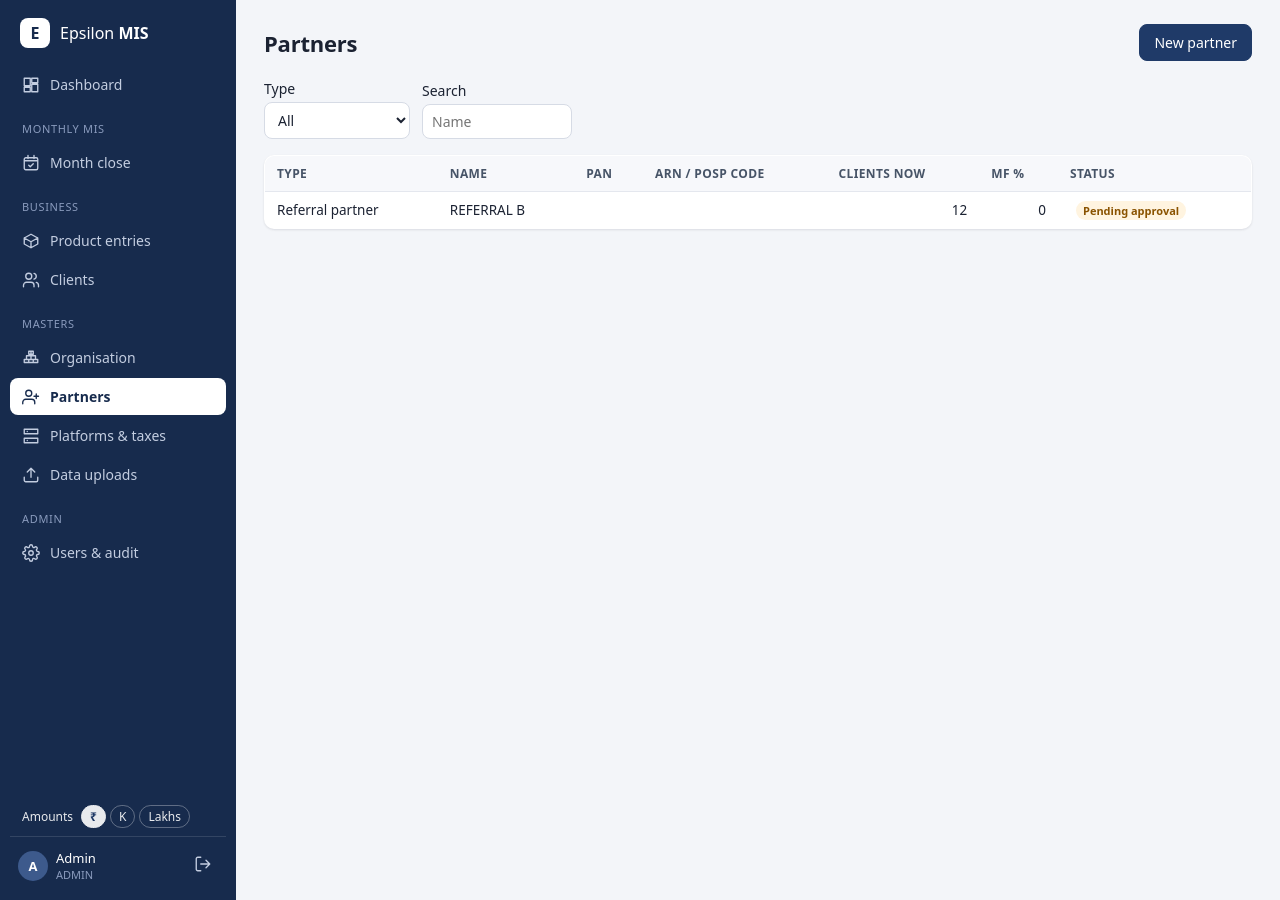
Test: partner rate cards › shows each partner its MF % and, opened, its % for every product
Check: the text "REFERRAL B" shows "Pending approval", box [1083,203,1179,218]
Click the text "REFERRAL B".
click(758, 210)  # box [264,192,1252,228]
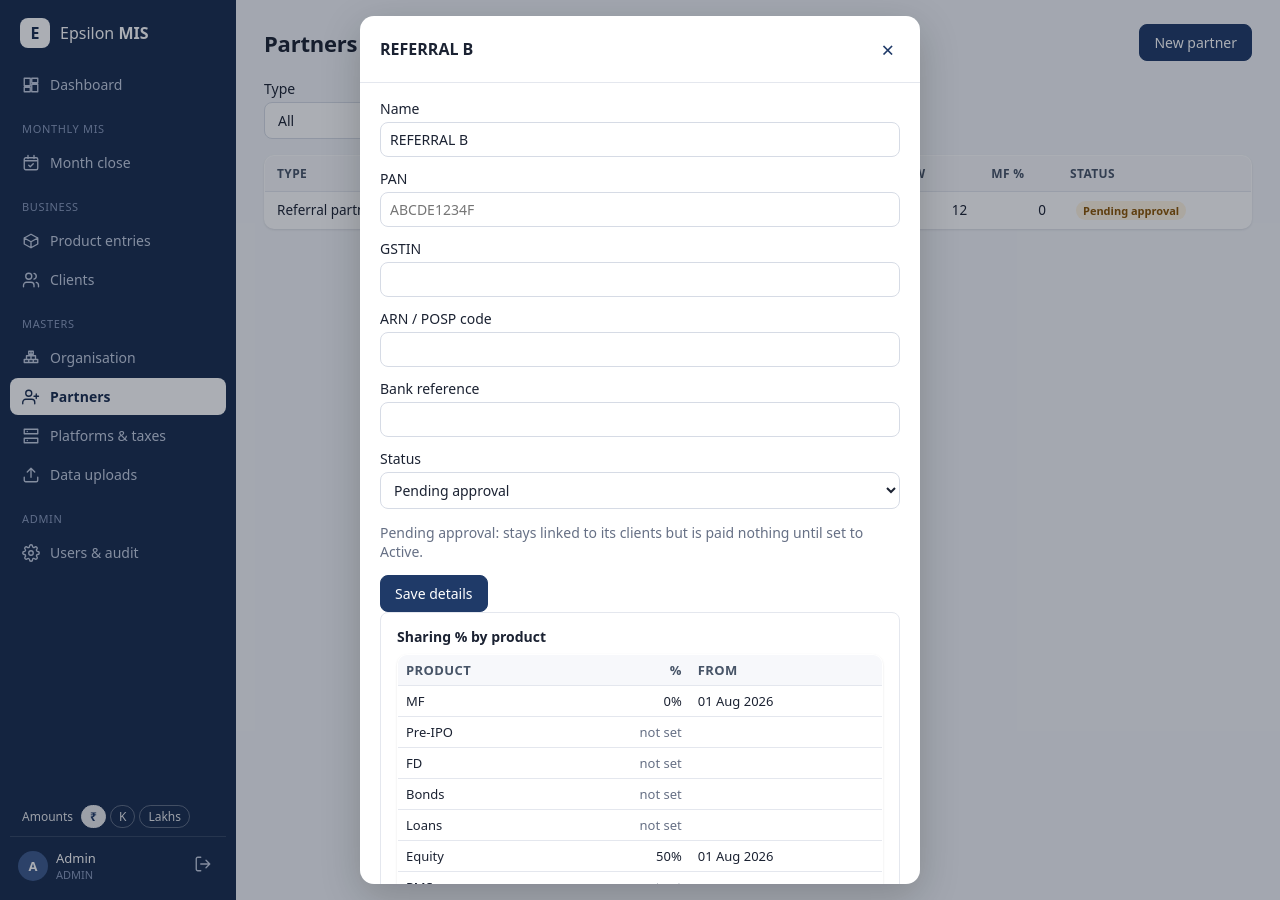
Check: the row "Equity" shows "50%", box [656,847,682,865]
Check: the row "Bonds" shows "not set", box [640,785,682,803]
